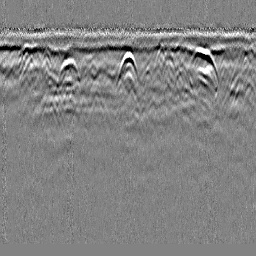cavity: (115, 50, 141, 86)
